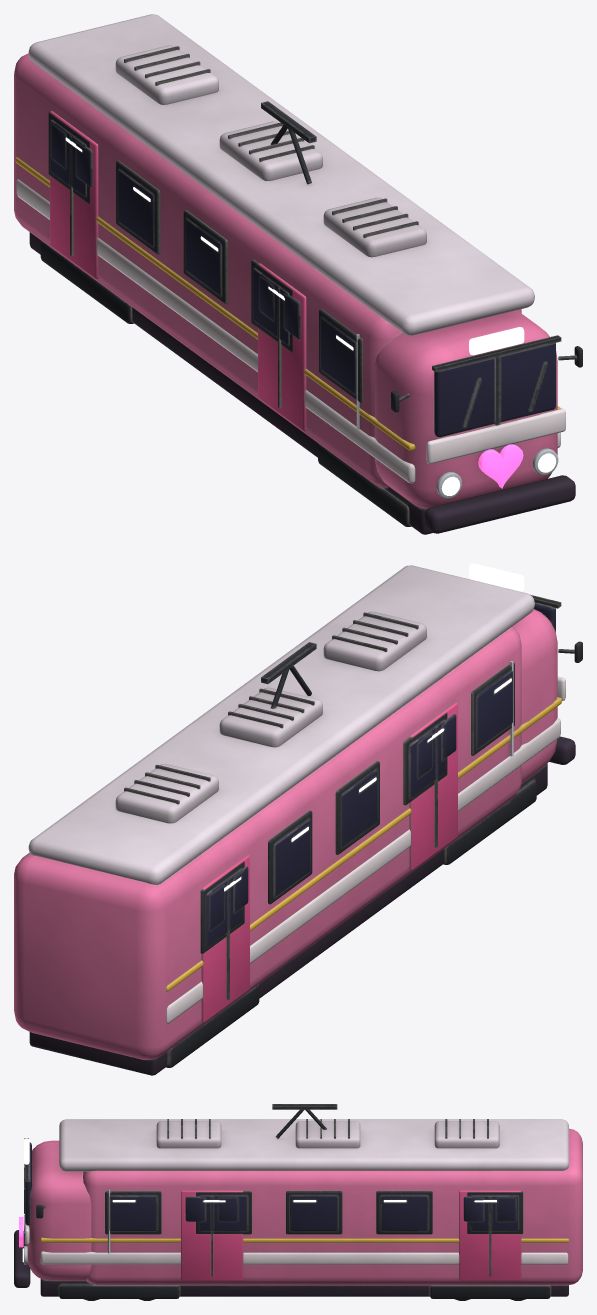
Rendered from rc_pink_train.glb.
The picture shows the model from 3 angles, top to bottom: view 1: azimuth 30°, elevation 25°; view 2: azimuth 150°, elevation 25°; view 3: azimuth 270°, elevation 25°; orthographic projection. The views are drawn at different scales.
Visible parts, largest first — view 1: rc_pink_train; view 2: rc_pink_train; view 3: rc_pink_train.
Part boxes in pixels (x1,y1,x2,y2): rc_pink_train: [14, 14, 582, 534]; rc_pink_train: [14, 563, 582, 1075]; rc_pink_train: [14, 1104, 582, 1300].
Size of the model in its own units: 3.14 by 4.34 by 12.28.
Materials: 12 (12 with a texture image).
